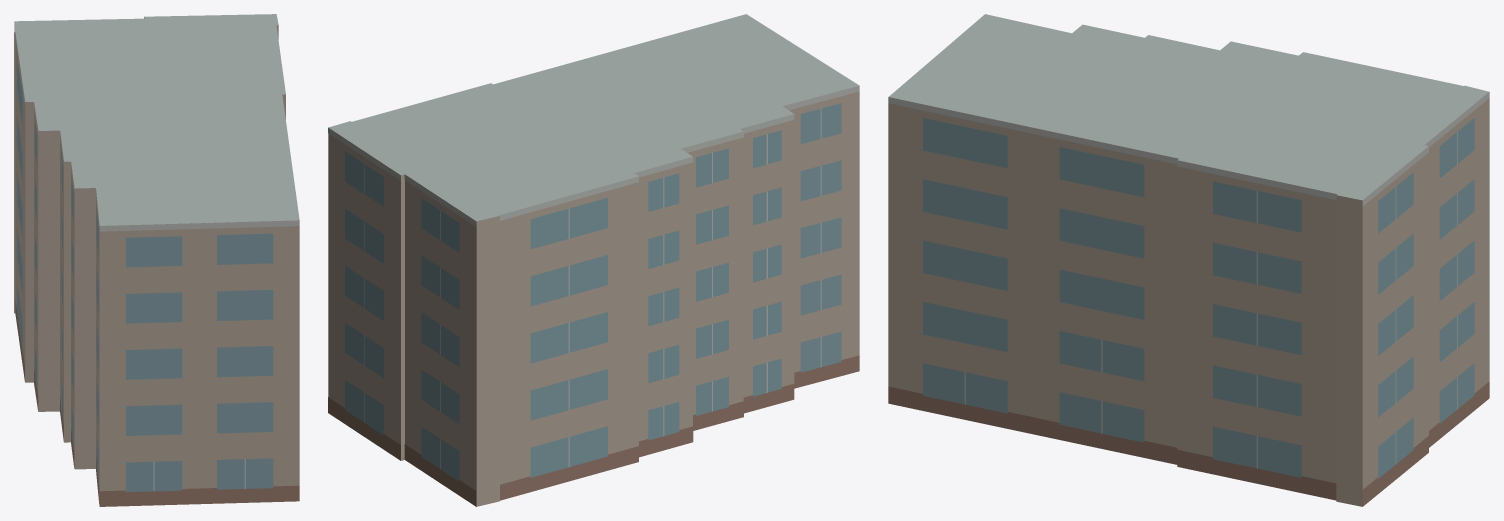
Rendered from survey-upis-32638964.glb.
The picture shows the model from 3 angles, left to right: view 1: azimuth 30°, elevation 25°; view 2: azimuth 150°, elevation 25°; view 3: azimuth 270°, elevation 25°; orthographic projection. The views are drawn at different scales.
Visible parts, largest first — view 1: survey-upis-32638964.tmp; view 2: survey-upis-32638964.tmp; view 3: survey-upis-32638964.tmp.
Boxes of the visible parts, box(x1,y1,x2,y2) form: survey-upis-32638964.tmp: box(14, 14, 299, 506); survey-upis-32638964.tmp: box(328, 14, 859, 506); survey-upis-32638964.tmp: box(888, 14, 1489, 506).
Bounding box in the file's own units: 15.74 × 12.07 × 21.46.
